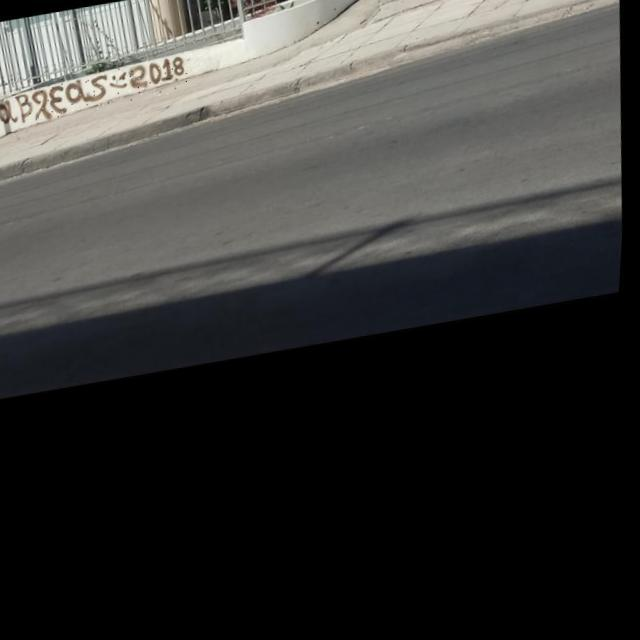-: (0, 58, 190, 128)
